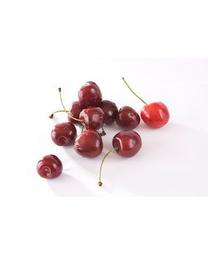cherry: (141, 101, 170, 129), (74, 129, 103, 157), (113, 130, 141, 158), (35, 153, 62, 179), (51, 121, 75, 145), (80, 107, 104, 130), (78, 81, 99, 106), (115, 107, 138, 129)
